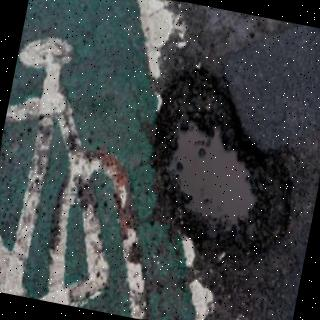pothole: (153, 66, 292, 263)
